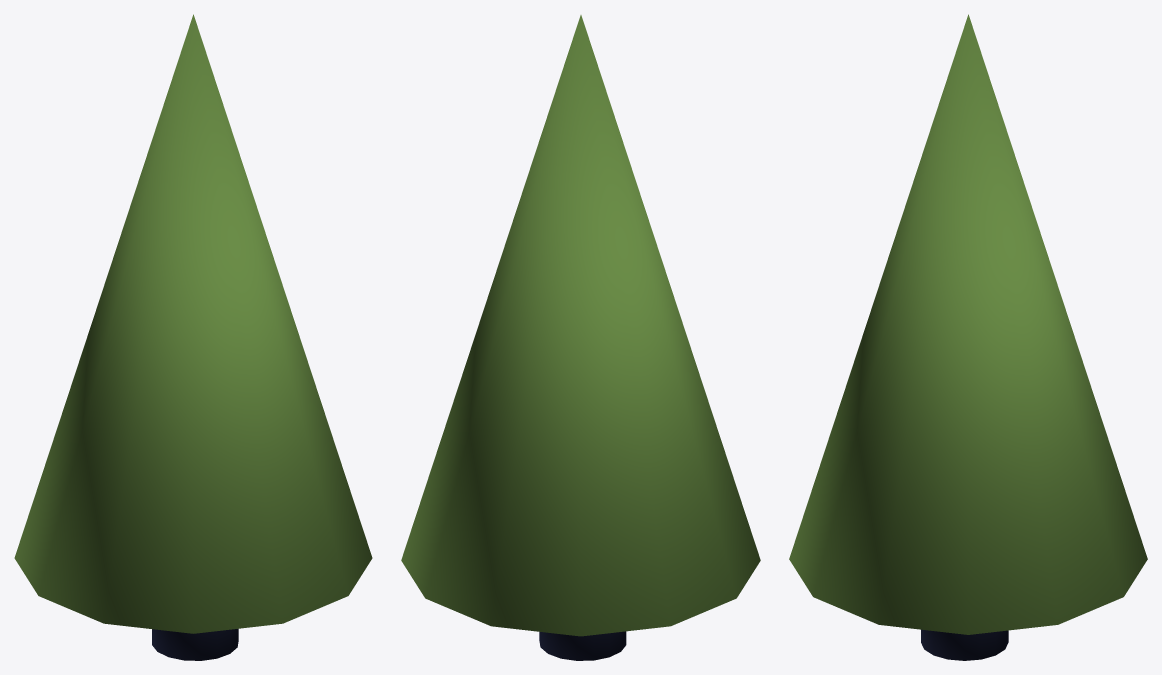
File: sapin-ete.gltf
3 renders of one model, left to right at view 1: azimuth 30°, elevation 25°; view 2: azimuth 150°, elevation 25°; view 3: azimuth 270°, elevation 25°, orthographic.
Parts seen in each view (by area): view 1: Cone, Cylinder; view 2: Cone, Cylinder; view 3: Cone, Cylinder.
Boxes of the visible parts, x1,y1,x2,y2 form: Cone: (14,14,372,633); Cylinder: (152,628,238,660); Cone: (401,15,760,636); Cylinder: (539,631,626,660); Cone: (789,14,1147,634); Cylinder: (921,629,1008,660).
Bounding box in the file's own units: 1.29 × 2.5 × 1.29.
